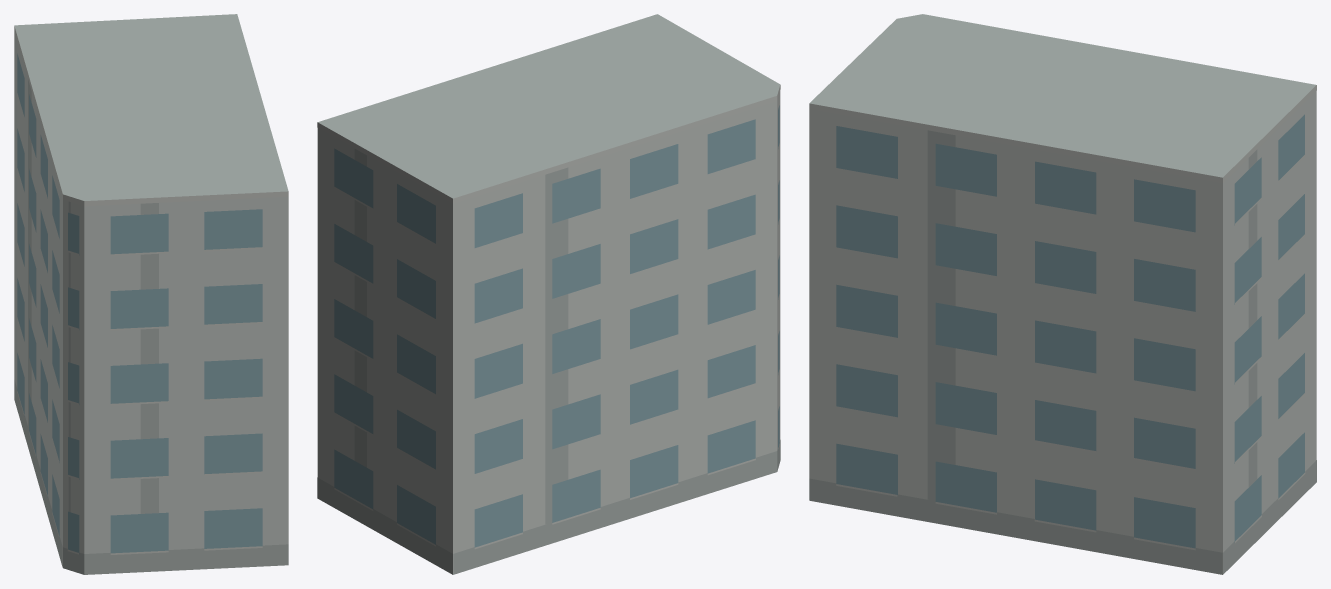
The model's file is survey-upis-32828323.glb.
3 views of the same model, side by side, from view 1: azimuth 30°, elevation 25°; view 2: azimuth 150°, elevation 25°; view 3: azimuth 270°, elevation 25° (orthographic). The views are drawn at different scales.
Visible parts, largest first — view 1: survey-upis-32828323.tmp; view 2: survey-upis-32828323.tmp; view 3: survey-upis-32828323.tmp.
Part boxes in pixels (x1,y1,x2,y2): survey-upis-32828323.tmp: (14,14,288,574); survey-upis-32828323.tmp: (317,14,780,574); survey-upis-32828323.tmp: (809,14,1316,574).
Size of the model in its own units: 15.2 by 17.2 by 19.92.
